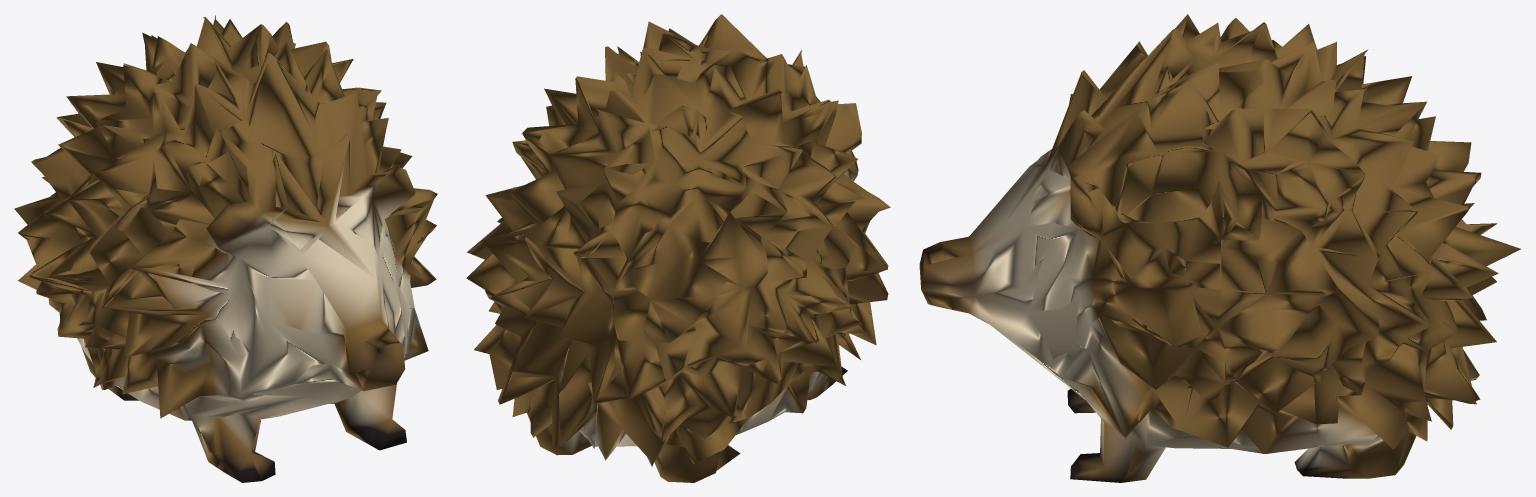
File: gen3d-hedgehog-lod0.glb
The picture shows the model from 3 angles, left to right: view 1: azimuth 30°, elevation 25°; view 2: azimuth 150°, elevation 25°; view 3: azimuth 270°, elevation 25°; orthographic projection. The views are drawn at different scales.
Visible parts, largest first — view 1: part_0; view 2: part_0; view 3: part_0.
Boxes of the visible parts, x1,y1,x2,y2 form: part_0: (14, 15, 437, 482); part_0: (466, 14, 890, 482); part_0: (919, 14, 1520, 482).
Bounding box in the file's own units: 0.9633 × 0.9971 × 1.33.
